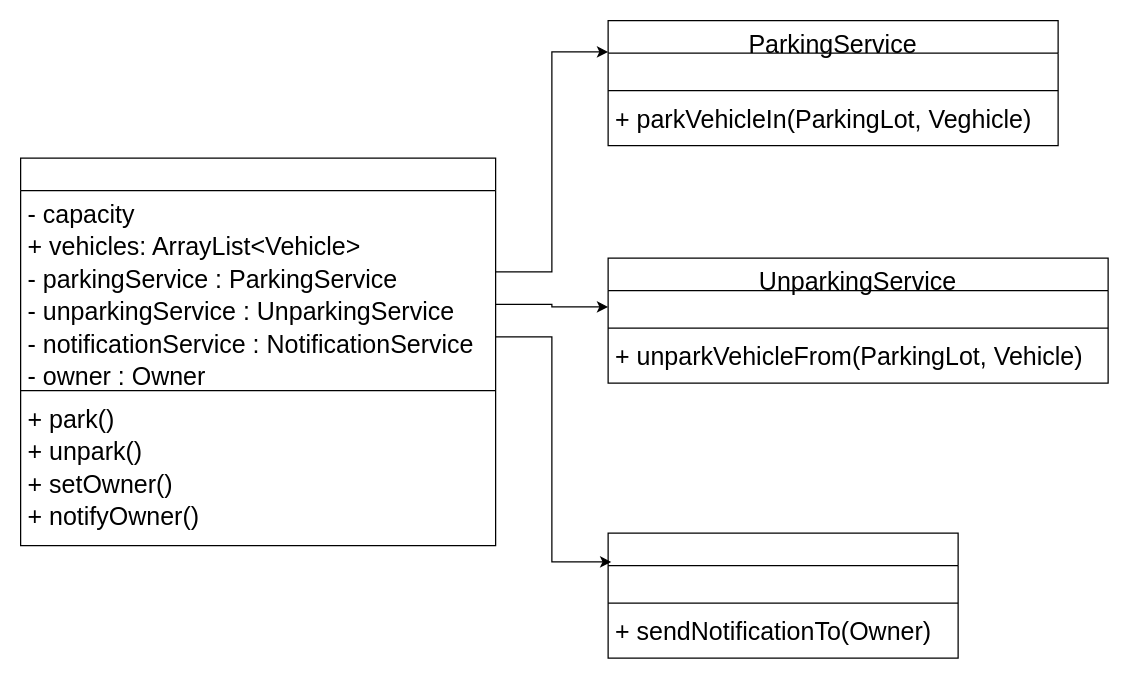
Some shapes in this 1129 by 679 pixel diagram are drawn without their labels. Here are the shapes that lost their labels. From the top down, the box of each, then its label:
(19, 157, 496, 546): ParkingLot
(607, 532, 958, 658): NotificationService
